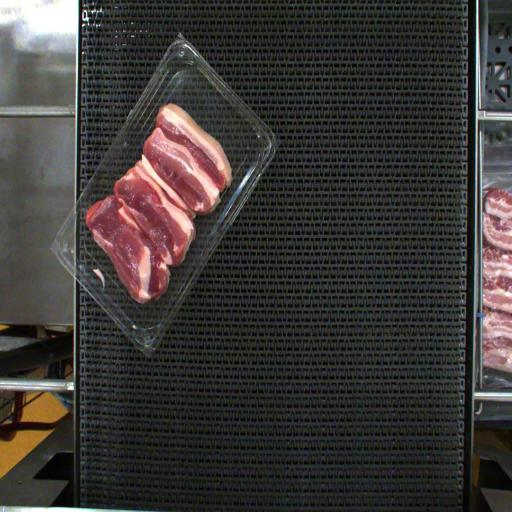twisted-meat: (95, 200, 168, 291)
